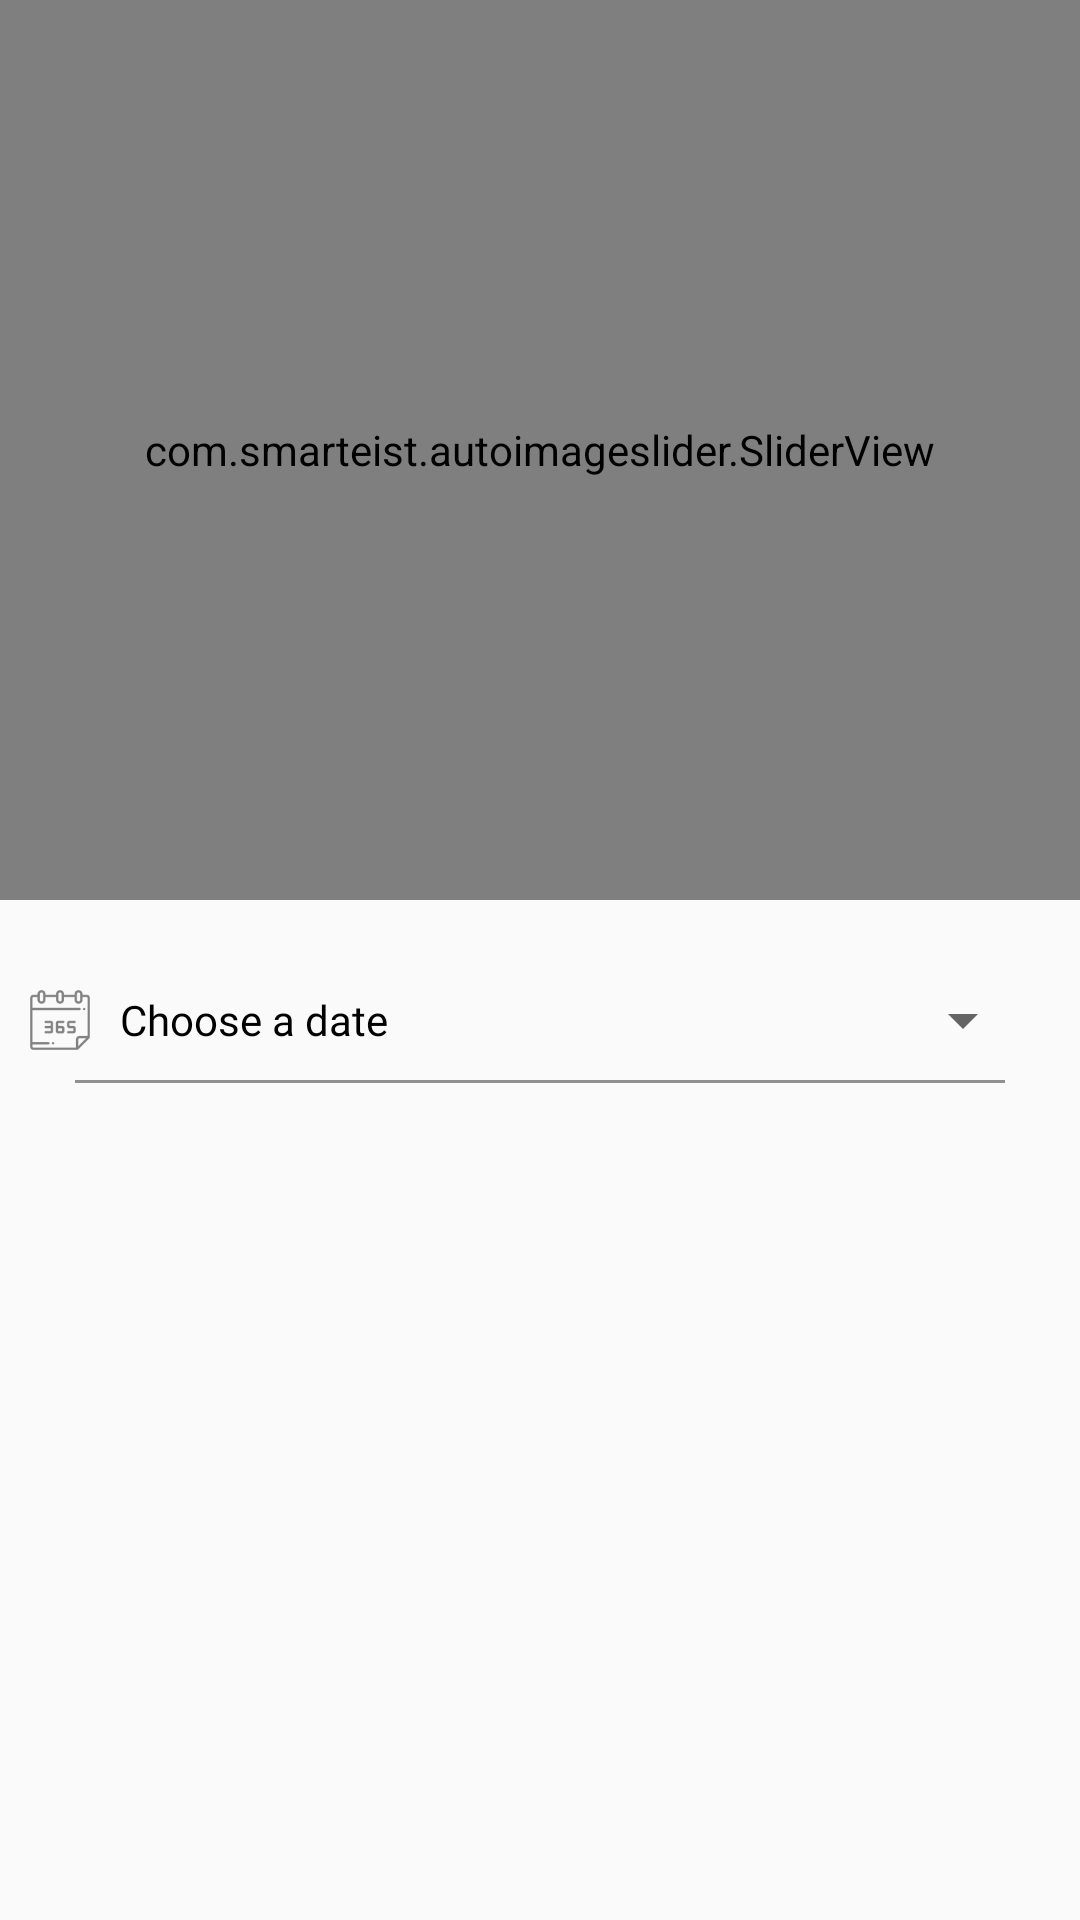

Point at icon controls on the screen. Image size 1080 × 1920, points as (x=x, y=y).
cale: (x=60, y=1020)
